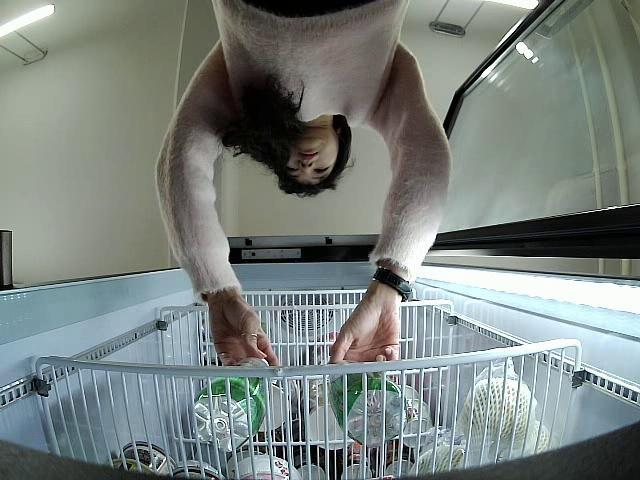18_trevi: (192, 356, 272, 450), (326, 373, 410, 448)
